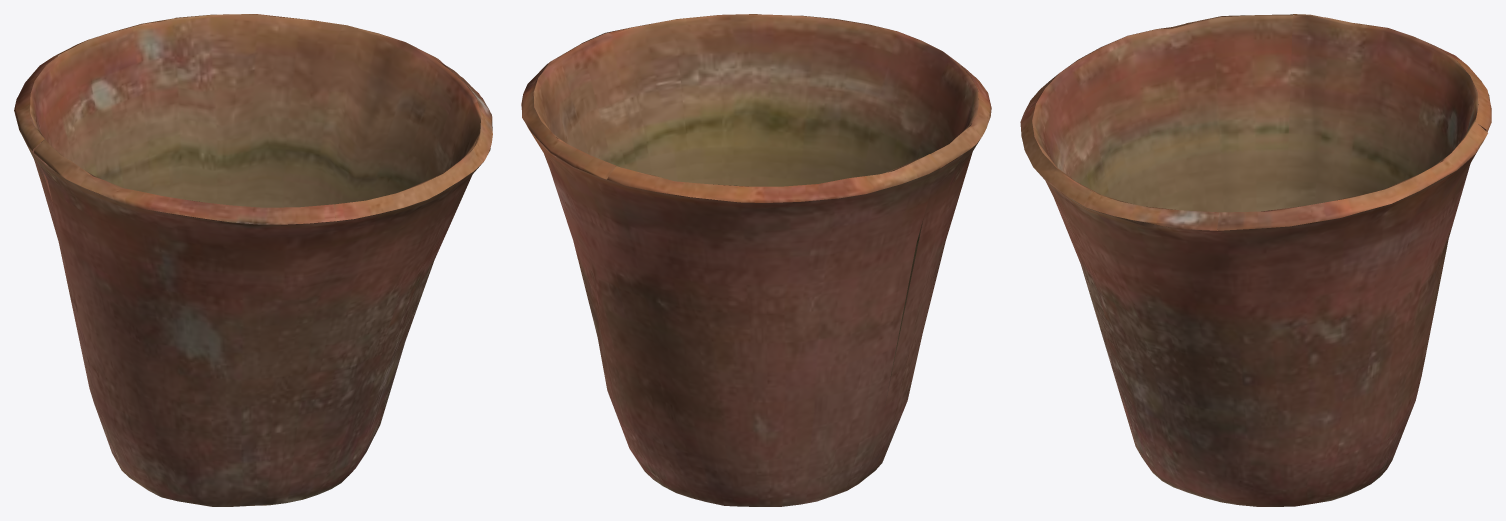
Rendered from planter_pot_clay.glb.
3 renders of one model, left to right at view 1: azimuth 30°, elevation 25°; view 2: azimuth 150°, elevation 25°; view 3: azimuth 270°, elevation 25°, orthographic.
Parts seen in each view (by area): view 1: lod0; view 2: lod0; view 3: lod0.
Boxes of the visible parts, left/top/right/bottom form: lod0: left=14, top=14, right=492, bottom=506; lod0: left=521, top=14, right=991, bottom=506; lod0: left=1020, top=14, right=1491, bottom=506.
Size of what is drawn, in the model's own units: 0.2667 by 0.222 by 0.2639.
Materials: 1 (1 with a texture image).
